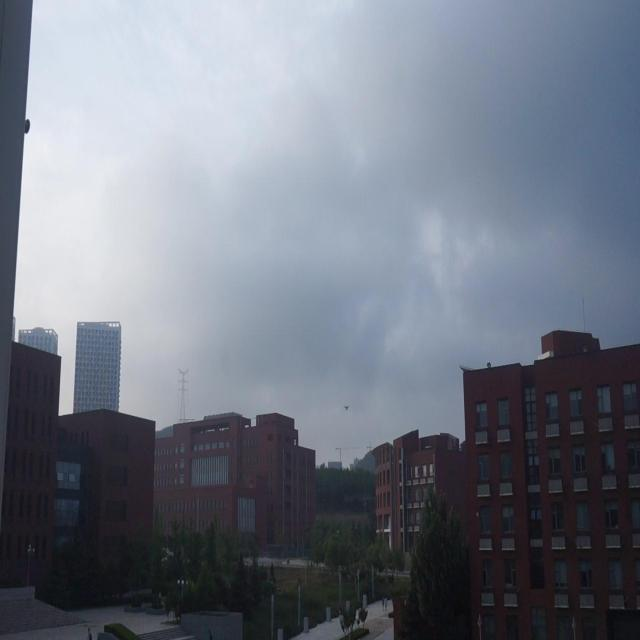drone: (342, 402, 351, 412)
